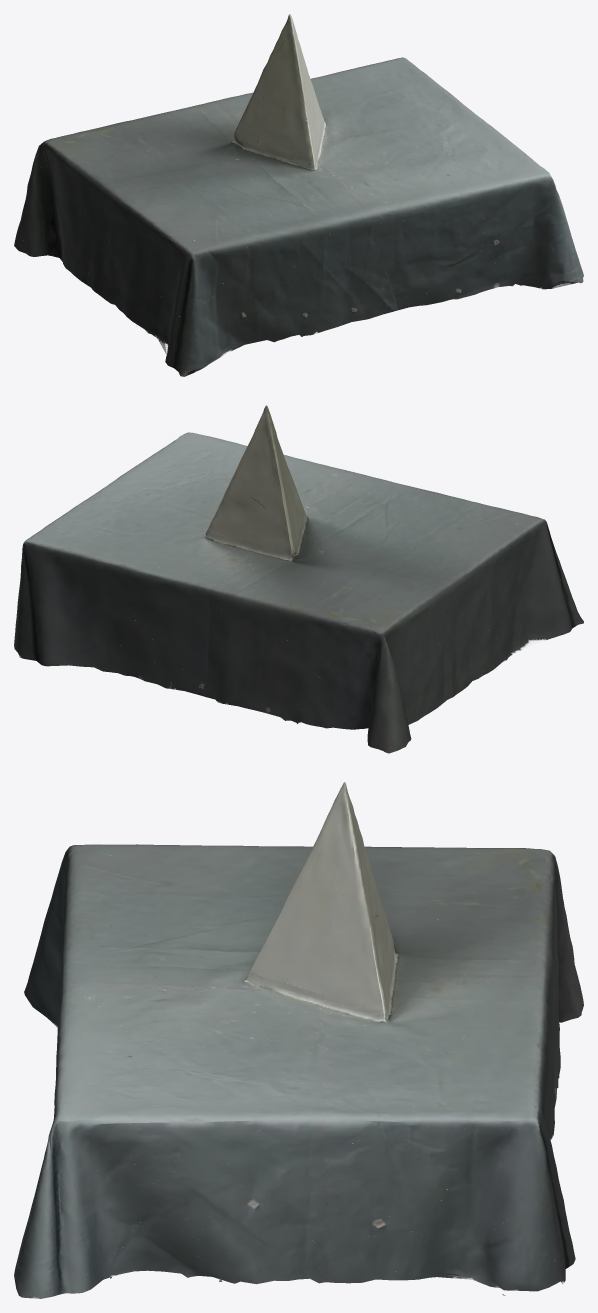
File: 静物_几何体_尖塔桌布08_opt.glb
3 renders of one model, top to bottom at view 1: azimuth 30°, elevation 25°; view 2: azimuth 150°, elevation 25°; view 3: azimuth 270°, elevation 25°, orthographic. The views are drawn at different scales.
Parts seen in each view (by area): view 1: defaultMat, defaultMat_1; view 2: defaultMat, defaultMat_1; view 3: defaultMat, defaultMat_1.
Boxes of the visible parts, <box> form: defaultMat: <box>14,14,583,376</box>; defaultMat_1: <box>19,19,567,376</box>; defaultMat: <box>14,405,583,753</box>; defaultMat_1: <box>16,410,583,750</box>; defaultMat: <box>14,782,583,1298</box>; defaultMat_1: <box>25,798,578,1297</box>.
Bounding box in the file's own units: 0.5322 × 0.3 × 0.4159.
1 material, 1 textured.
